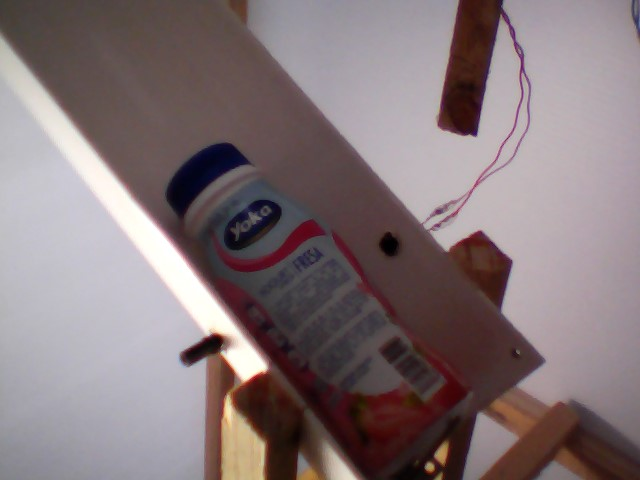plastico: (160, 142, 502, 477)
